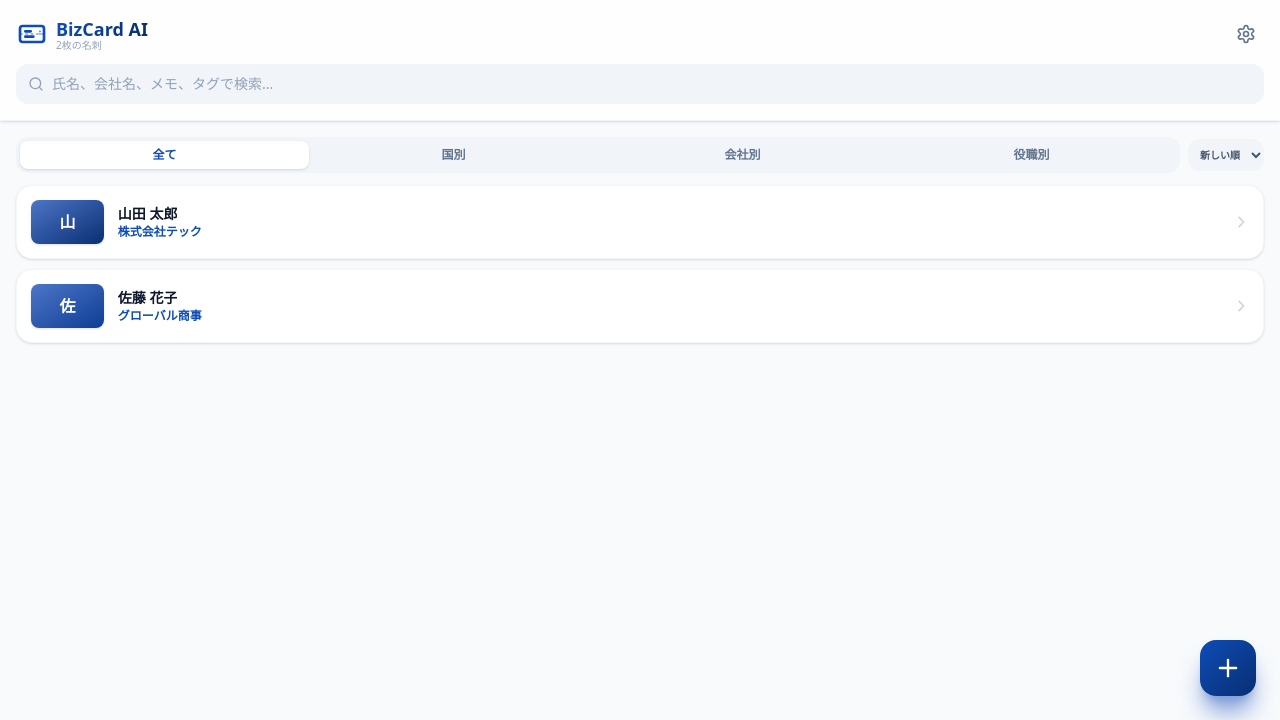
Test: CardListView 検索 › 氏名で絞り込める
The width and height of the screenshot is (1280, 720).
Step 1. Type "山田" into the field with placeholder "氏名、会社名、メモ、タグで検索..." → (640, 84), box top-left (16, 64), bottom-right (1264, 104)
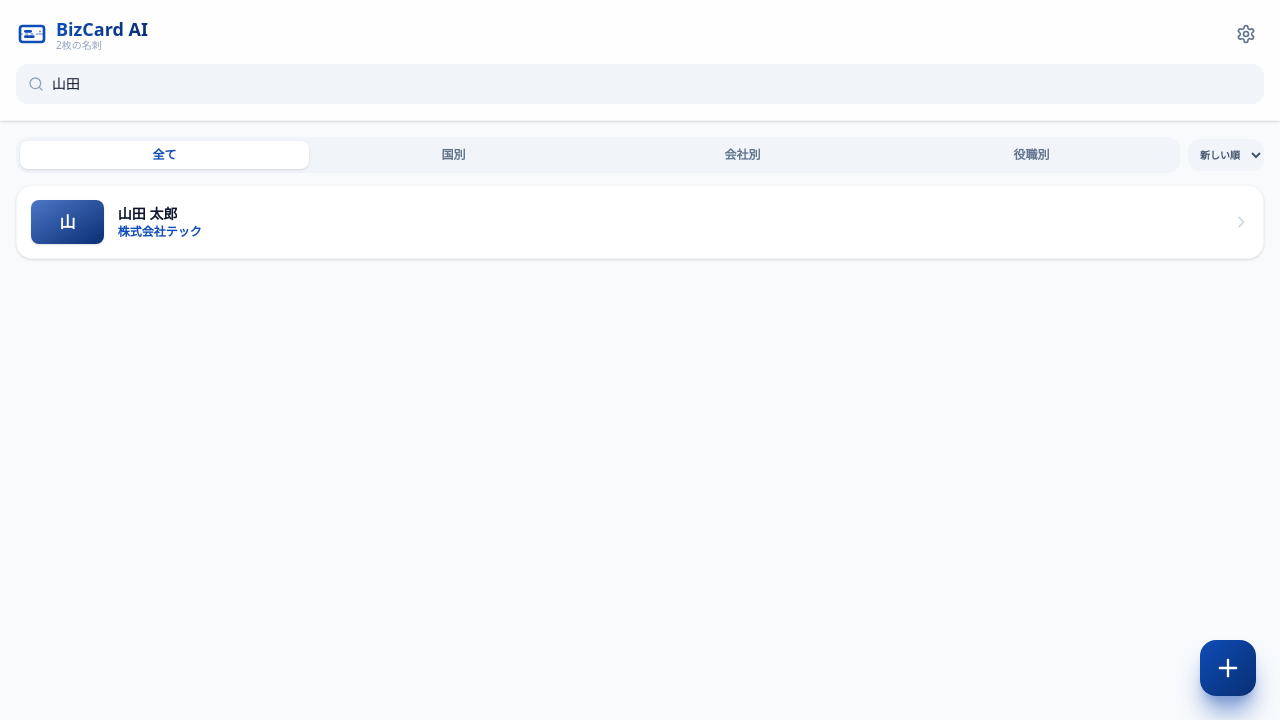
Expected: the heading "山田 太郎" is shown, top-left (118, 205), bottom-right (177, 222)
Result: the button "佐藤 花子" is gone
